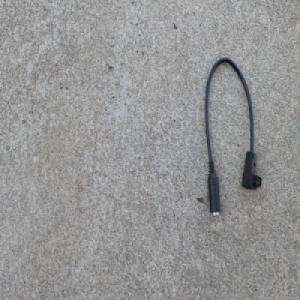Wire: (203, 54, 262, 220)
